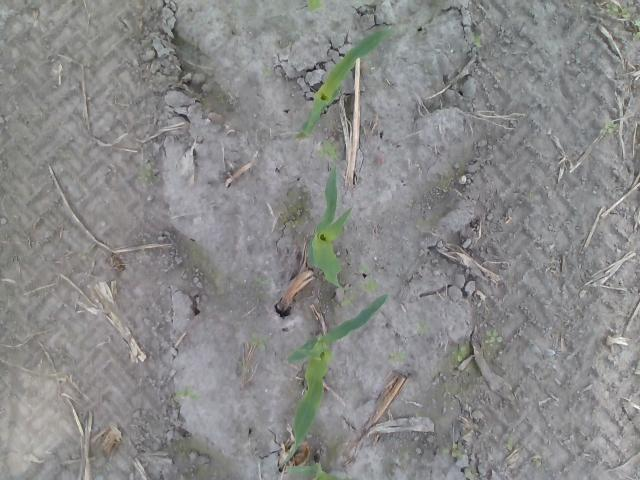Maize: (276, 294, 388, 470), (296, 27, 392, 138), (304, 164, 356, 290), (286, 455, 344, 480), (306, 0, 342, 13)
Weeds: (314, 140, 339, 161), (173, 385, 199, 403), (606, 1, 630, 19), (360, 278, 380, 296), (250, 332, 268, 350), (140, 163, 152, 187), (443, 444, 463, 458), (452, 344, 468, 361), (600, 120, 618, 135), (386, 351, 406, 364), (340, 294, 356, 308), (416, 318, 430, 334), (485, 330, 502, 343), (358, 262, 372, 274), (78, 246, 90, 260), (471, 34, 482, 47), (633, 19, 640, 39), (237, 360, 248, 372), (464, 468, 474, 480), (262, 65, 272, 77), (506, 437, 514, 451), (256, 277, 270, 285), (534, 456, 544, 466), (422, 62, 430, 73), (526, 192, 536, 200), (354, 0, 362, 5)
